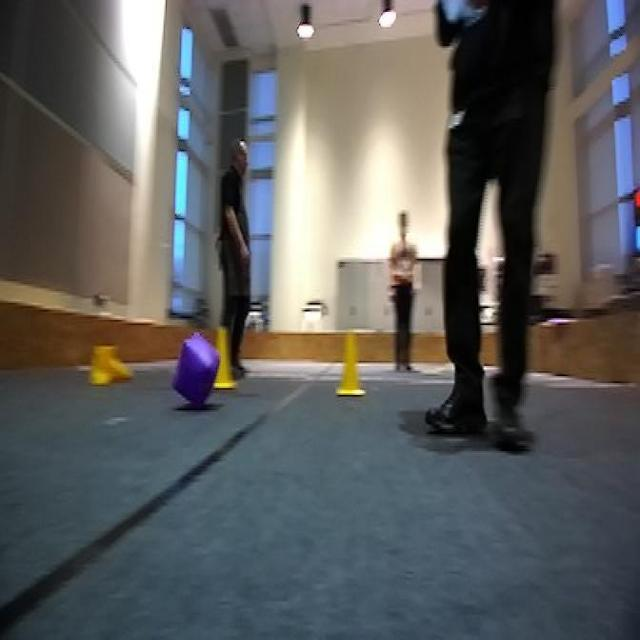frc_cone: (90, 341, 132, 388), (338, 328, 365, 396), (210, 334, 236, 392)
frc_cube: (173, 335, 217, 412)
